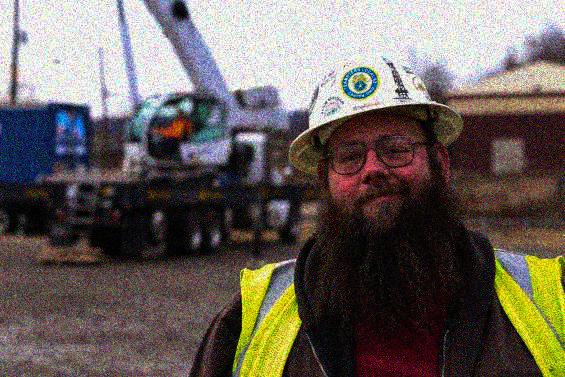helmet: (287, 56, 466, 231)
